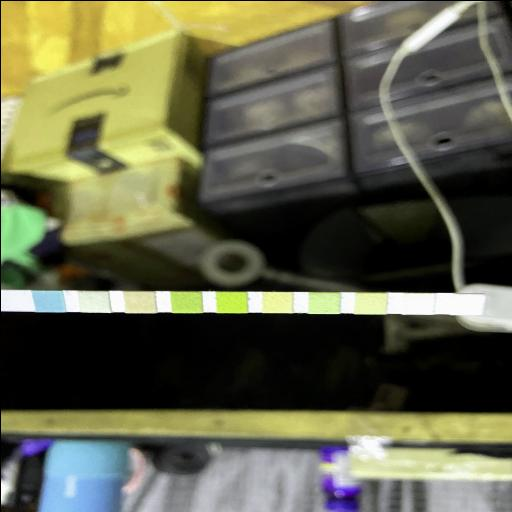Bilirubin: (80, 290, 108, 311)
Blood: (216, 291, 246, 312)
Glucose: (35, 290, 61, 311)
Ketone: (126, 290, 154, 312)
Leukocytes: (454, 293, 480, 314)
Nitrite: (404, 293, 432, 313)
Protein: (308, 292, 338, 312)
SpGravity: (172, 290, 200, 312)
Urobilinogen: (354, 292, 384, 314)
pH: (262, 292, 292, 312)
strip: (0, 288, 485, 314)
